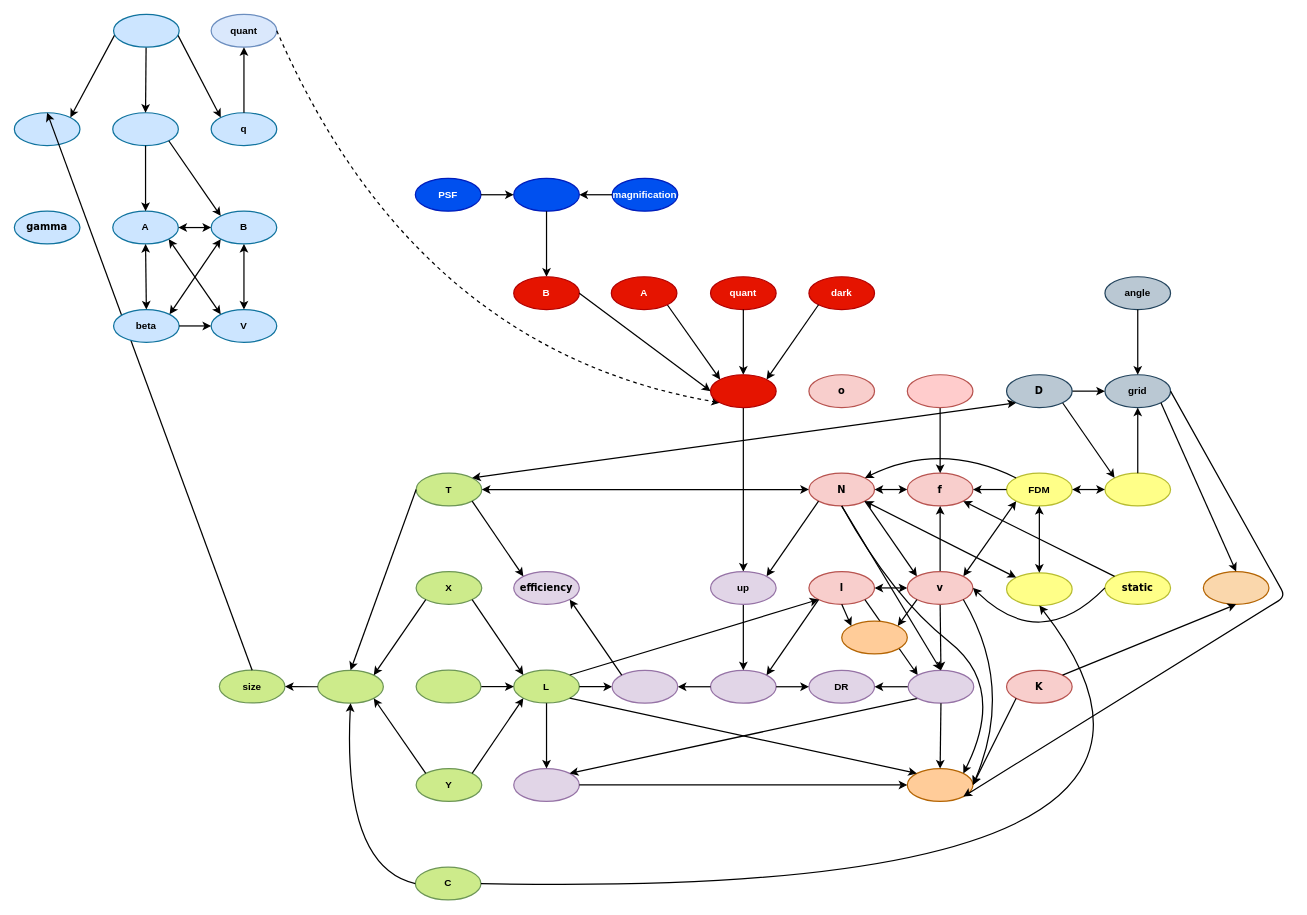
The diagram is 1307 pixels wide and 915 high, and some of its shapes have lost their labels. The centre of each missing label's shape, as x and y in pixels:
"alpha" belongs at point (448, 686).
"dtype" belongs at point (146, 30).
"eta" belongs at point (546, 785).
"Imax" belongs at point (145, 129).
"MM_" belongs at point (874, 637).
"MTF" belongs at point (546, 194).
"nbytes" belongs at point (46, 129).
"reverse" belongs at point (939, 391).
"SDM" belongs at point (1137, 489).
"shape" belongs at point (350, 686).
"SNR" belongs at point (644, 686).
"SSB" belongs at point (1235, 588).
"ui" belongs at point (743, 391).
"UMR" belongs at point (940, 686).
"uwr" belongs at point (939, 785).
"ux" belongs at point (743, 686).
"WDM" belongs at point (1039, 589).
